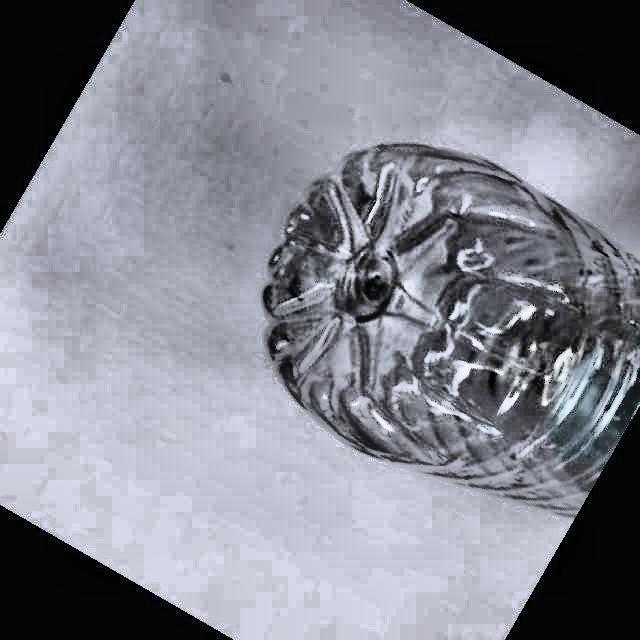plastic: (264, 144, 640, 514)
